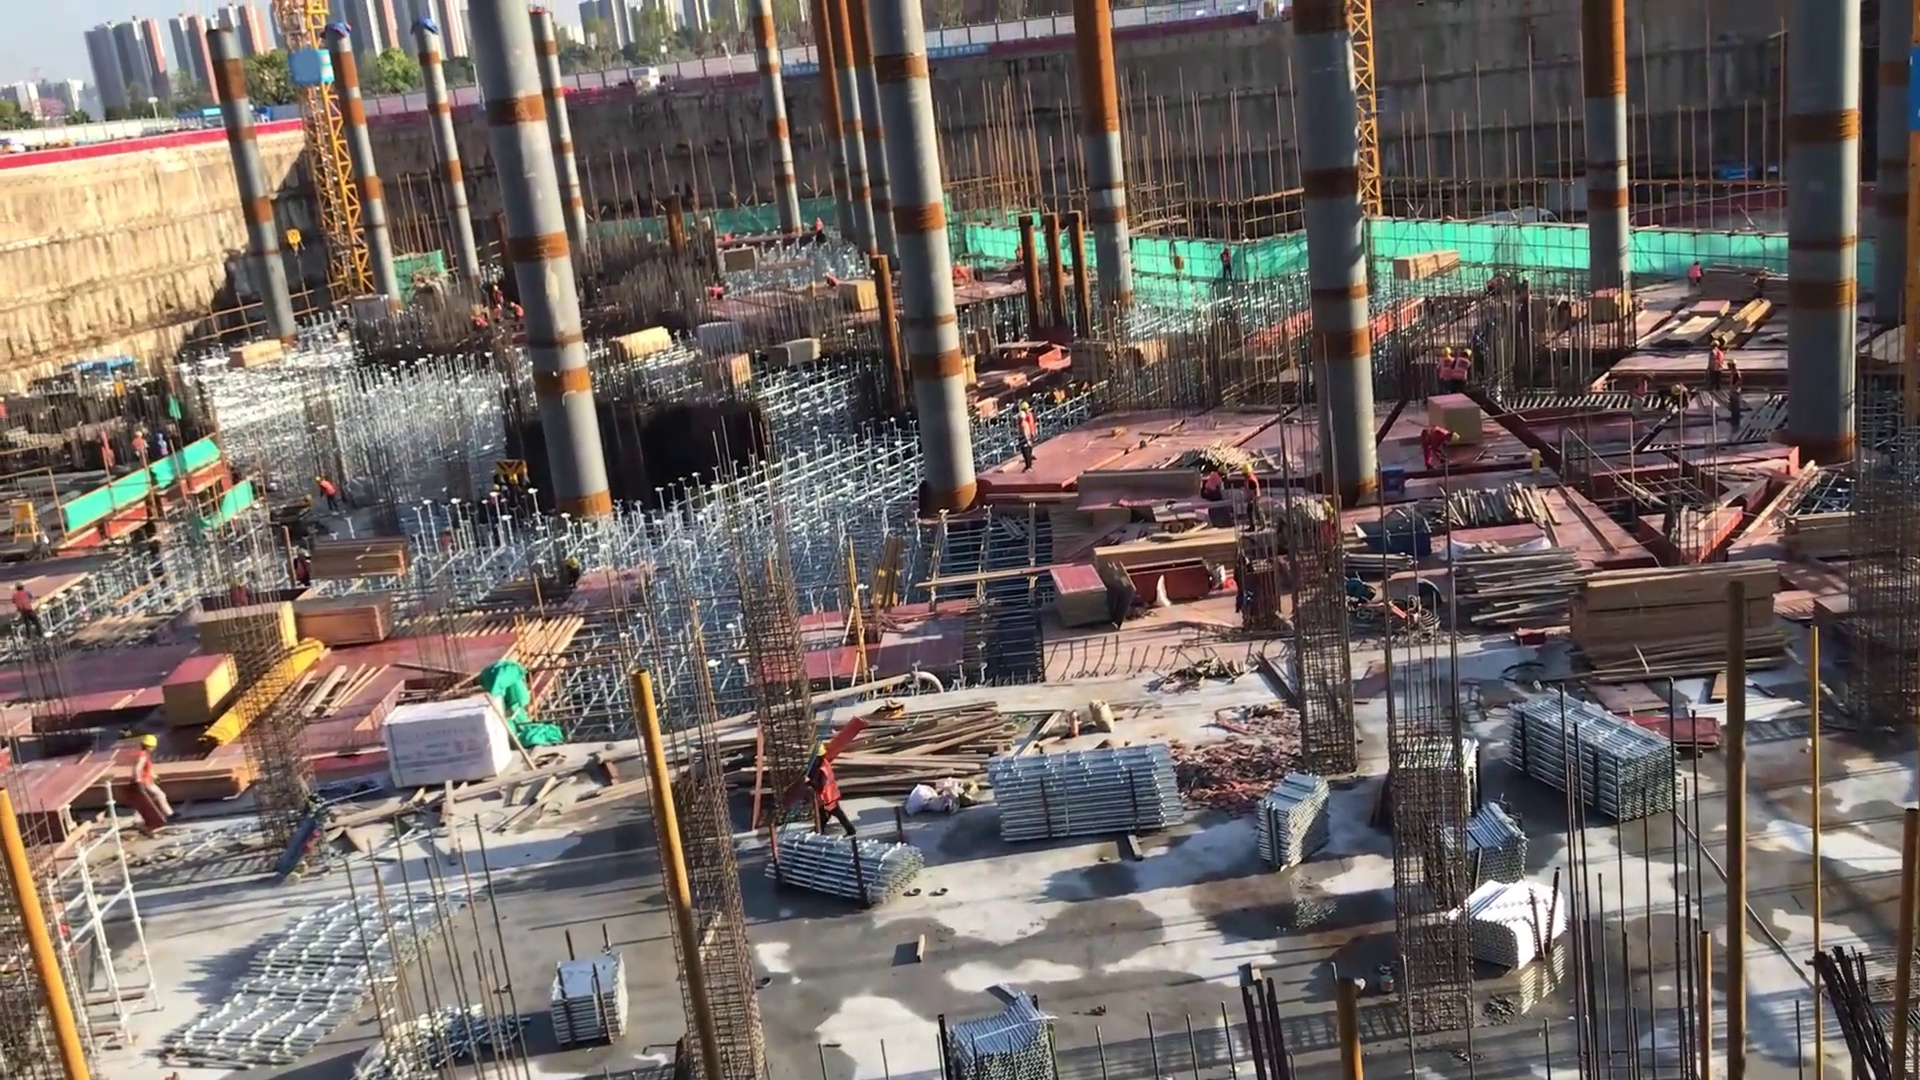board: (196, 599, 296, 673), (160, 646, 236, 732), (1619, 712, 1729, 762), (1048, 565, 1113, 627), (841, 276, 880, 312)
ebox: (13, 495, 54, 555)
helmet: (805, 740, 834, 762), (134, 735, 160, 757), (1217, 462, 1231, 482), (11, 580, 28, 597), (1240, 462, 1255, 480), (1447, 427, 1467, 442), (1726, 357, 1742, 371), (1710, 336, 1725, 350), (134, 427, 147, 441), (297, 545, 308, 558), (314, 472, 325, 485), (1461, 346, 1472, 358), (1442, 345, 1453, 357), (155, 433, 166, 443)
hook: (1356, 517, 1433, 562)
person: (125, 731, 184, 843), (796, 734, 855, 845), (1413, 424, 1461, 483), (7, 574, 43, 643), (1724, 358, 1747, 436), (1241, 464, 1266, 538), (1700, 337, 1727, 402), (312, 475, 343, 528), (1013, 413, 1034, 481), (1201, 464, 1231, 510), (291, 541, 318, 589), (1455, 343, 1476, 404), (1018, 400, 1039, 456), (1680, 255, 1706, 296), (124, 429, 149, 471), (1218, 242, 1242, 283), (1440, 344, 1456, 395), (490, 276, 506, 323), (154, 431, 173, 469), (507, 300, 528, 333)
scaffold: (1505, 680, 1702, 829), (976, 746, 1198, 847), (762, 830, 945, 898), (1241, 759, 1333, 879), (1430, 793, 1523, 907), (950, 985, 1062, 1080)
slogan: (923, 40, 989, 58), (783, 61, 822, 76)
vest: (810, 762, 844, 813), (132, 752, 166, 794), (1244, 474, 1263, 505), (13, 592, 35, 617), (1205, 471, 1226, 496), (1424, 426, 1447, 448), (1456, 357, 1472, 385), (1709, 350, 1725, 376), (1440, 356, 1455, 384), (319, 479, 337, 498), (130, 437, 146, 459), (1688, 265, 1702, 280)
wood: (1579, 554, 1792, 685), (792, 698, 1013, 803), (1455, 541, 1598, 638), (1086, 530, 1251, 581), (1768, 508, 1920, 560), (290, 586, 399, 653), (155, 746, 259, 812), (311, 533, 414, 583), (605, 320, 672, 371), (230, 331, 293, 384), (1392, 244, 1463, 289), (759, 334, 829, 376)
